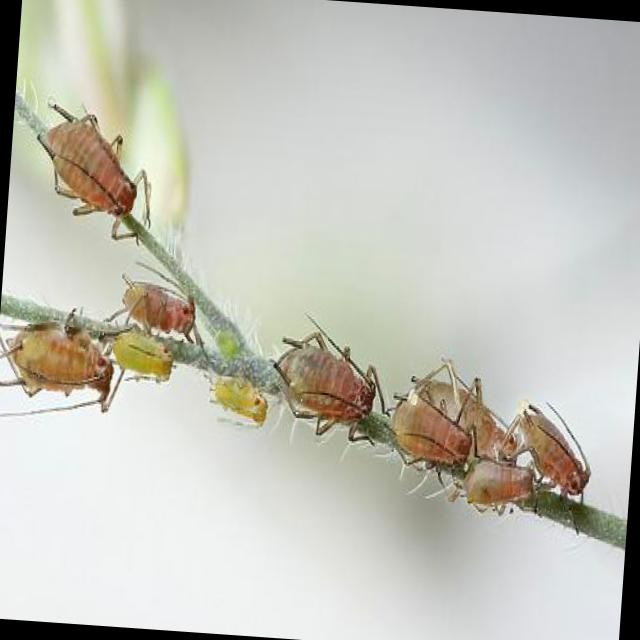Aphids: (41, 62, 167, 260), (261, 308, 395, 443), (0, 306, 114, 446), (489, 394, 601, 526), (102, 252, 208, 348), (380, 384, 480, 481), (446, 442, 550, 522), (101, 312, 182, 390), (196, 361, 270, 432)
